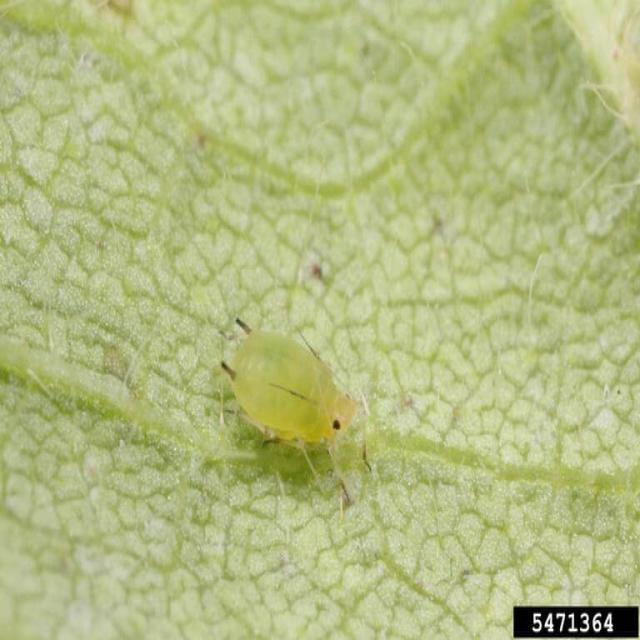aphid: (221, 319, 356, 442)
